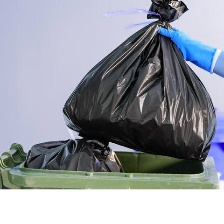plastic_bag: (60, 0, 223, 166), (18, 120, 128, 177)
